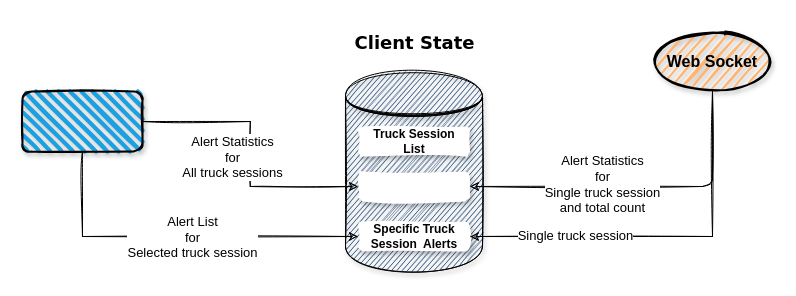
This 796x296 diagram has some shape labels left out. Each missing label, with the centre of its shape:
Alert Statistics: point 415,187
API: point 83,122
